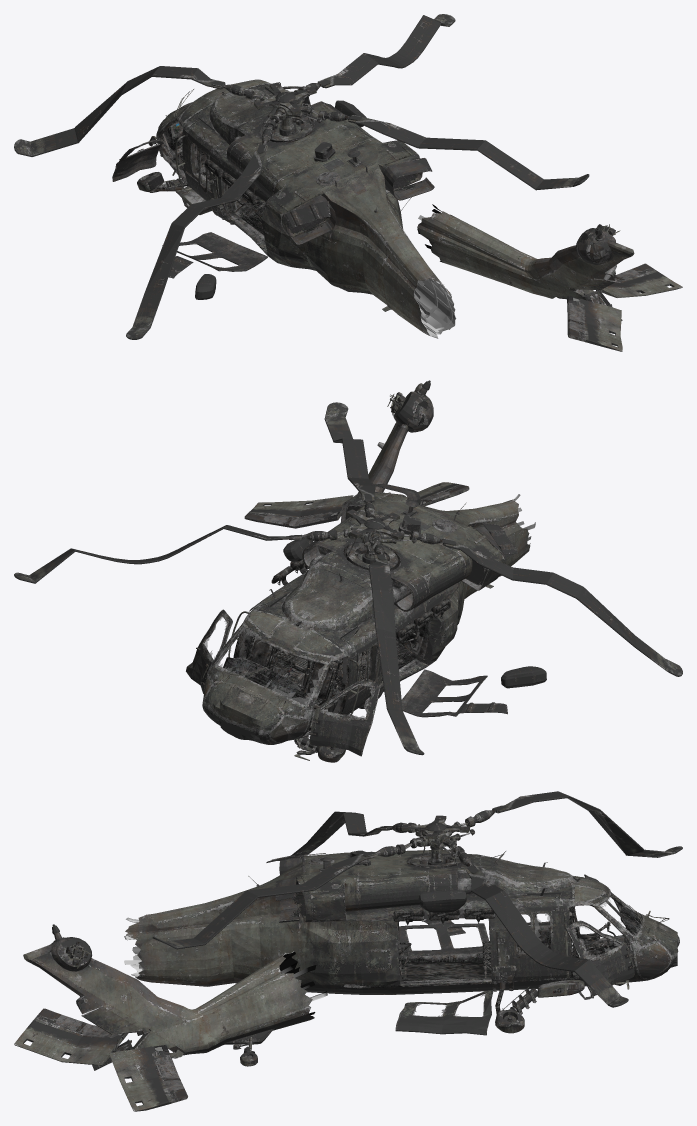
3 renders of one model, top to bottom at view 1: azimuth 30°, elevation 25°; view 2: azimuth 150°, elevation 25°; view 3: azimuth 270°, elevation 25°, orthographic. The views are drawn at different scales.
Parts seen in each view (by area): view 1: SM_Crashed_Black_Hawk_01a.mo, SM_Crashed_Black_Hawk_01b.mo, SM_Crashed_Black_Hawk_02.mo, SM_Crashed_Black_Hawk_01c.mo, SM_Crashed_Black_Hawk_03.mo, SM_Crashed_Black_Hawk_05.mo; view 2: SM_Crashed_Black_Hawk_01a.mo, SM_Crashed_Black_Hawk_01b.mo, SM_Crashed_Black_Hawk_01c.mo, SM_Crashed_Black_Hawk_02.mo, SM_Crashed_Black_Hawk_03.mo, SM_Crashed_Black_Hawk_04.mo, SM_Crashed_Black_Hawk_05.mo; view 3: SM_Crashed_Black_Hawk_01a.mo, SM_Crashed_Black_Hawk_02.mo, SM_Crashed_Black_Hawk_01b.mo, SM_Crashed_Black_Hawk_01c.mo, SM_Crashed_Black_Hawk_06.mo, SM_Crashed_Black_Hawk_03.mo.
Part boxes in pixels (box(x1,y1,x2,y2)): SM_Crashed_Black_Hawk_01a.mo: box(112, 79, 456, 338); SM_Crashed_Black_Hawk_01b.mo: box(14, 14, 589, 339); SM_Crashed_Black_Hawk_02.mo: box(417, 204, 682, 351); SM_Crashed_Black_Hawk_01c.mo: box(119, 80, 454, 334); SM_Crashed_Black_Hawk_03.mo: box(162, 232, 267, 271); SM_Crashed_Black_Hawk_05.mo: box(137, 172, 188, 192); SM_Crashed_Black_Hawk_01a.mo: box(186, 483, 530, 756); SM_Crashed_Black_Hawk_01b.mo: box(14, 402, 682, 755); SM_Crashed_Black_Hawk_01c.mo: box(196, 494, 535, 748); SM_Crashed_Black_Hawk_02.mo: box(244, 380, 469, 570); SM_Crashed_Black_Hawk_03.mo: box(401, 669, 487, 717); SM_Crashed_Black_Hawk_04.mo: box(501, 666, 546, 688); SM_Crashed_Black_Hawk_05.mo: box(294, 735, 345, 762); SM_Crashed_Black_Hawk_01a.mo: box(125, 850, 679, 1033); SM_Crashed_Black_Hawk_02.mo: box(14, 924, 327, 1111); SM_Crashed_Black_Hawk_01b.mo: box(152, 791, 682, 1007); SM_Crashed_Black_Hawk_01c.mo: box(124, 849, 669, 1002); SM_Crashed_Black_Hawk_06.mo: box(395, 990, 493, 1035); SM_Crashed_Black_Hawk_03.mo: box(399, 923, 490, 953).
Size of the model in its own units: 1315 by 401 by 1514.
